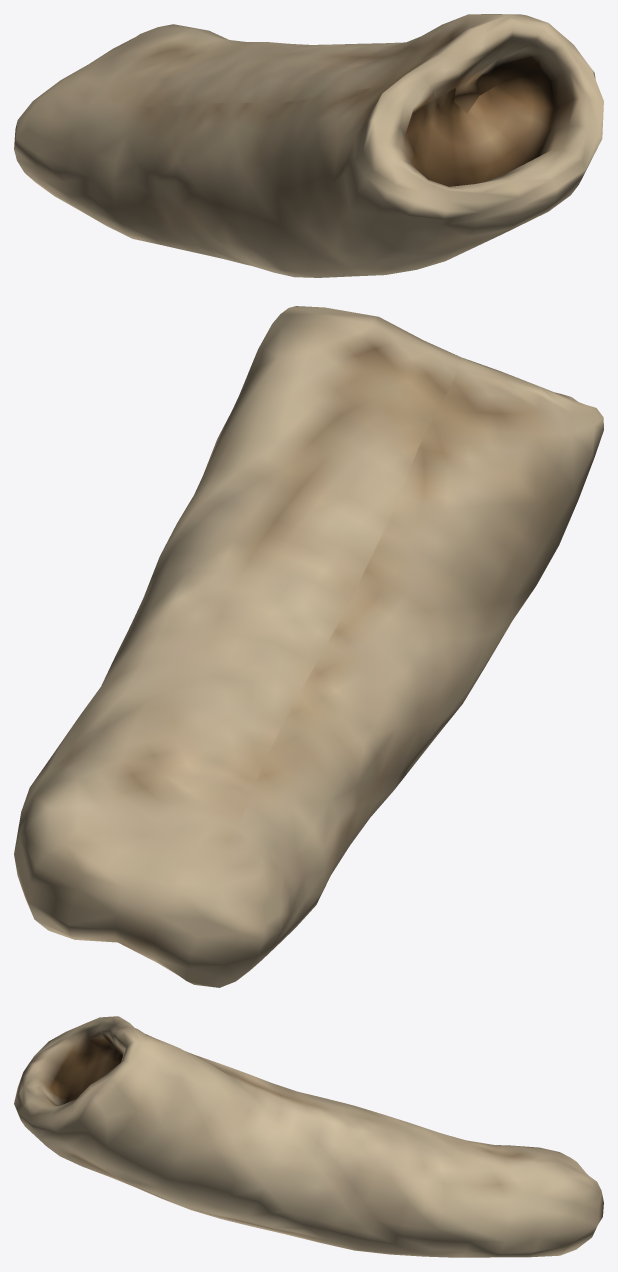
Rendered from Lower_Incisor5.glb.
3 renders of one model, top to bottom at view 1: azimuth 30°, elevation 25°; view 2: azimuth 150°, elevation 25°; view 3: azimuth 270°, elevation 25°, orthographic. The views are drawn at different scales.
Parts seen in each view (by area): view 1: Group54163_Mesh.047; view 2: Group54163_Mesh.047; view 3: Group54163_Mesh.047.
Boxes of the visible parts, x1,y1,x2,y2 form: Group54163_Mesh.047: (14, 14, 603, 277); Group54163_Mesh.047: (14, 306, 603, 987); Group54163_Mesh.047: (14, 1016, 603, 1257).
Bounding box in the file's own units: 0.0141 × 0.0155 × 0.033.
Materials: 1 (1 with a texture image).
